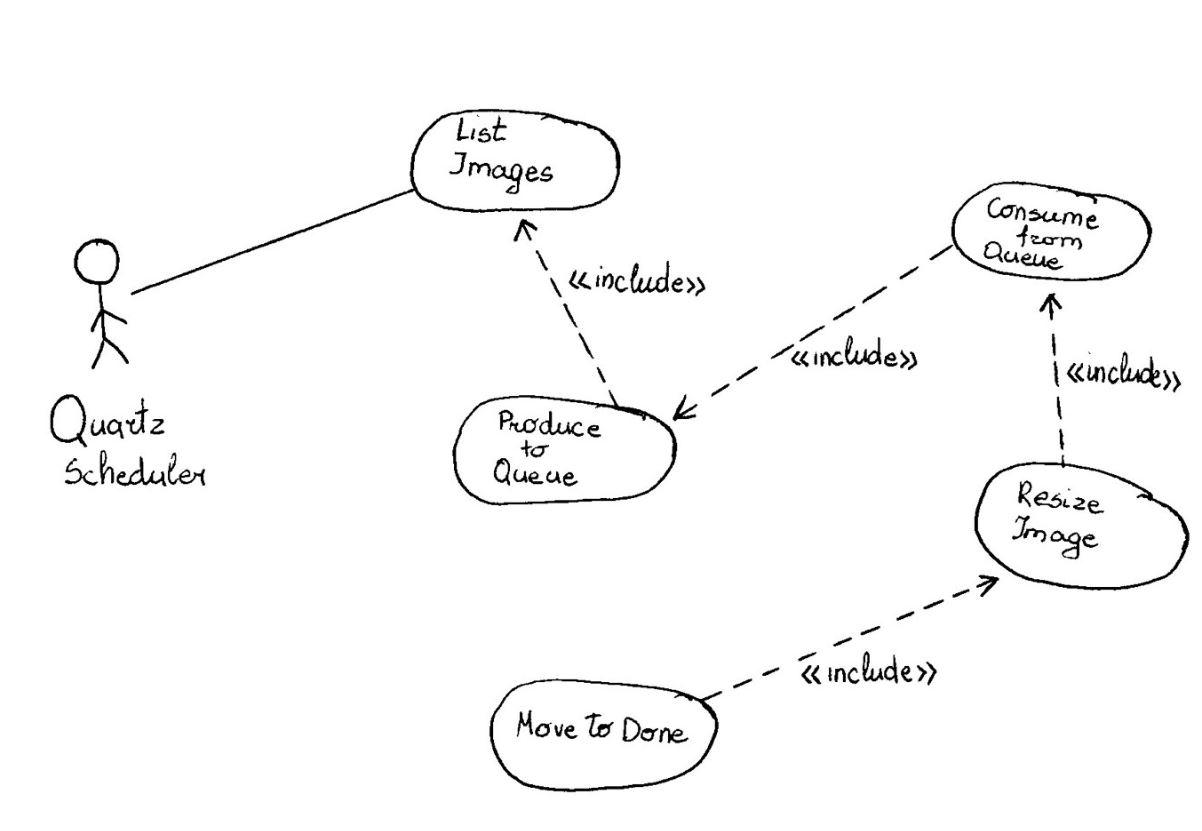actor: (68, 236, 137, 375)
association: (669, 241, 952, 424), (703, 565, 1000, 698), (131, 185, 416, 296), (505, 219, 628, 399), (1039, 287, 1080, 460)
text: (41, 391, 220, 496), (482, 404, 619, 490), (442, 115, 568, 199), (982, 194, 1104, 272), (514, 702, 691, 753), (1008, 480, 1114, 564), (796, 653, 951, 691), (565, 261, 718, 297), (1058, 349, 1188, 391), (790, 335, 930, 371)
use_case: (970, 460, 1190, 592), (487, 678, 721, 792), (449, 392, 678, 506), (410, 107, 622, 213), (949, 179, 1150, 283)
